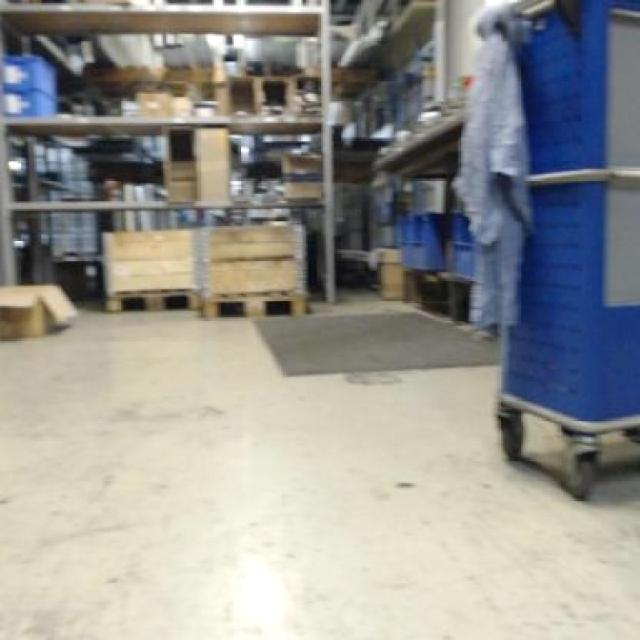pallets: (102, 222, 302, 314), (195, 222, 302, 314), (102, 229, 192, 308), (0, 283, 74, 335)
